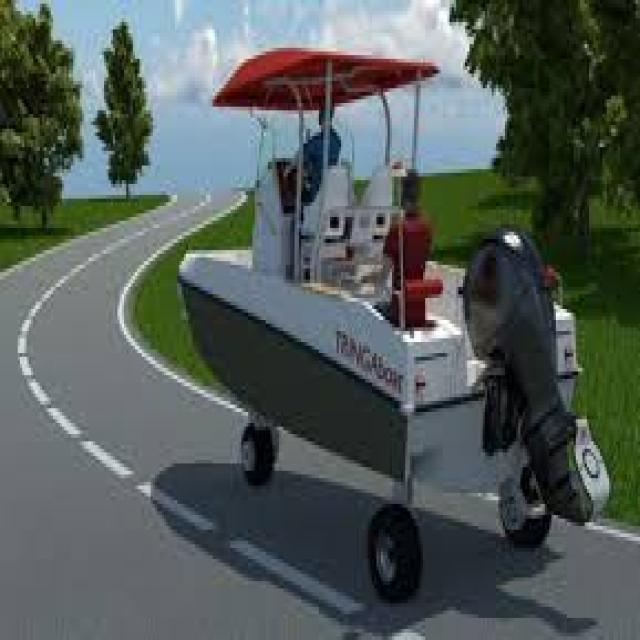ship2: (177, 48, 594, 549)
